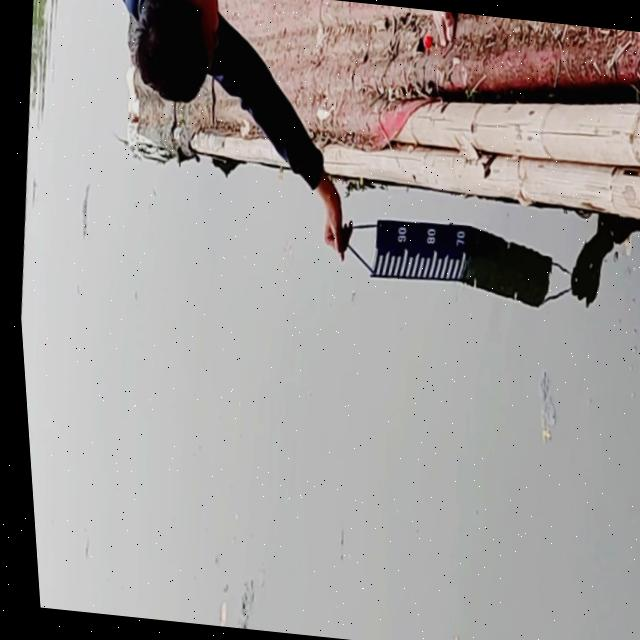water-meter: (354, 204, 487, 294)
